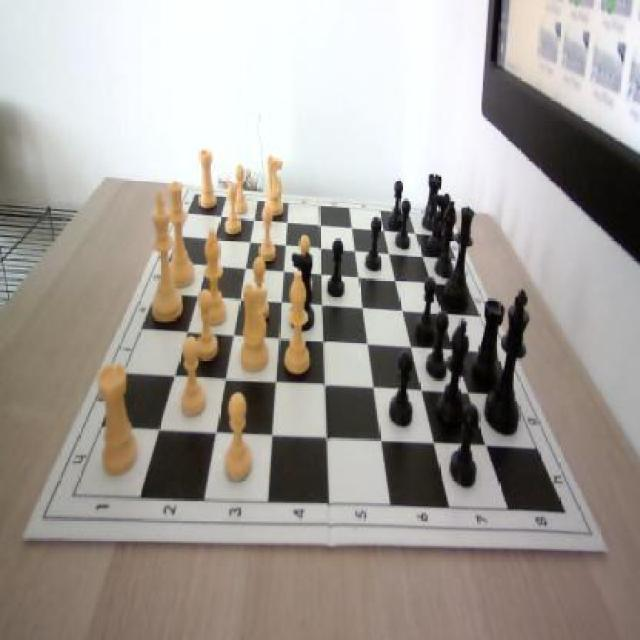bishop: (435, 317, 471, 435), (435, 202, 460, 280)
black-bishop: (485, 289, 530, 440)
black-king: (288, 252, 317, 332), (426, 192, 452, 258)
black-knight: (449, 406, 481, 489), (388, 352, 415, 428), (424, 308, 448, 380), (414, 277, 437, 345), (326, 238, 349, 301), (365, 217, 383, 275), (394, 202, 412, 252), (390, 177, 406, 230)
black-pawn: (442, 206, 476, 312)
black-queen: (469, 300, 505, 392), (421, 174, 444, 233)
black-rook: (198, 224, 228, 330), (283, 272, 312, 378)
white-bishop: (148, 194, 185, 328)
white-king: (237, 283, 270, 376), (266, 151, 286, 217)
white-knight: (220, 392, 254, 486), (178, 337, 208, 422), (192, 291, 220, 365), (248, 254, 272, 320), (290, 228, 314, 293), (223, 182, 243, 236), (231, 162, 250, 216), (259, 208, 276, 263)
white-pawn: (163, 180, 196, 292)
white-queen: (95, 362, 141, 478), (196, 149, 220, 214)
